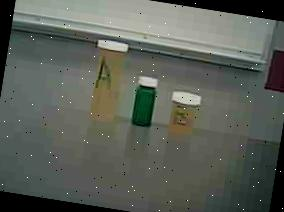Bottle A: (83, 36, 135, 130)
Bottle B: (162, 86, 208, 140)
Bottle C: (126, 70, 164, 132)
